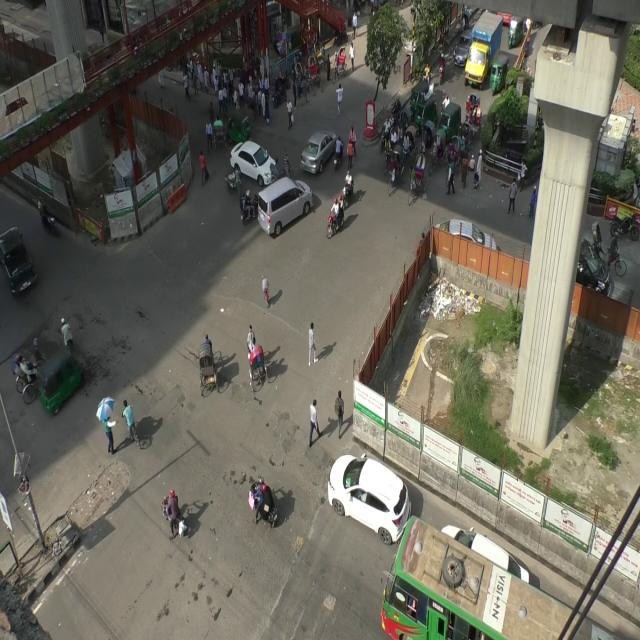Rikshaw-Py4o: (592, 220, 632, 277), (12, 335, 38, 400), (242, 323, 268, 378), (411, 152, 428, 208), (389, 141, 400, 194)
